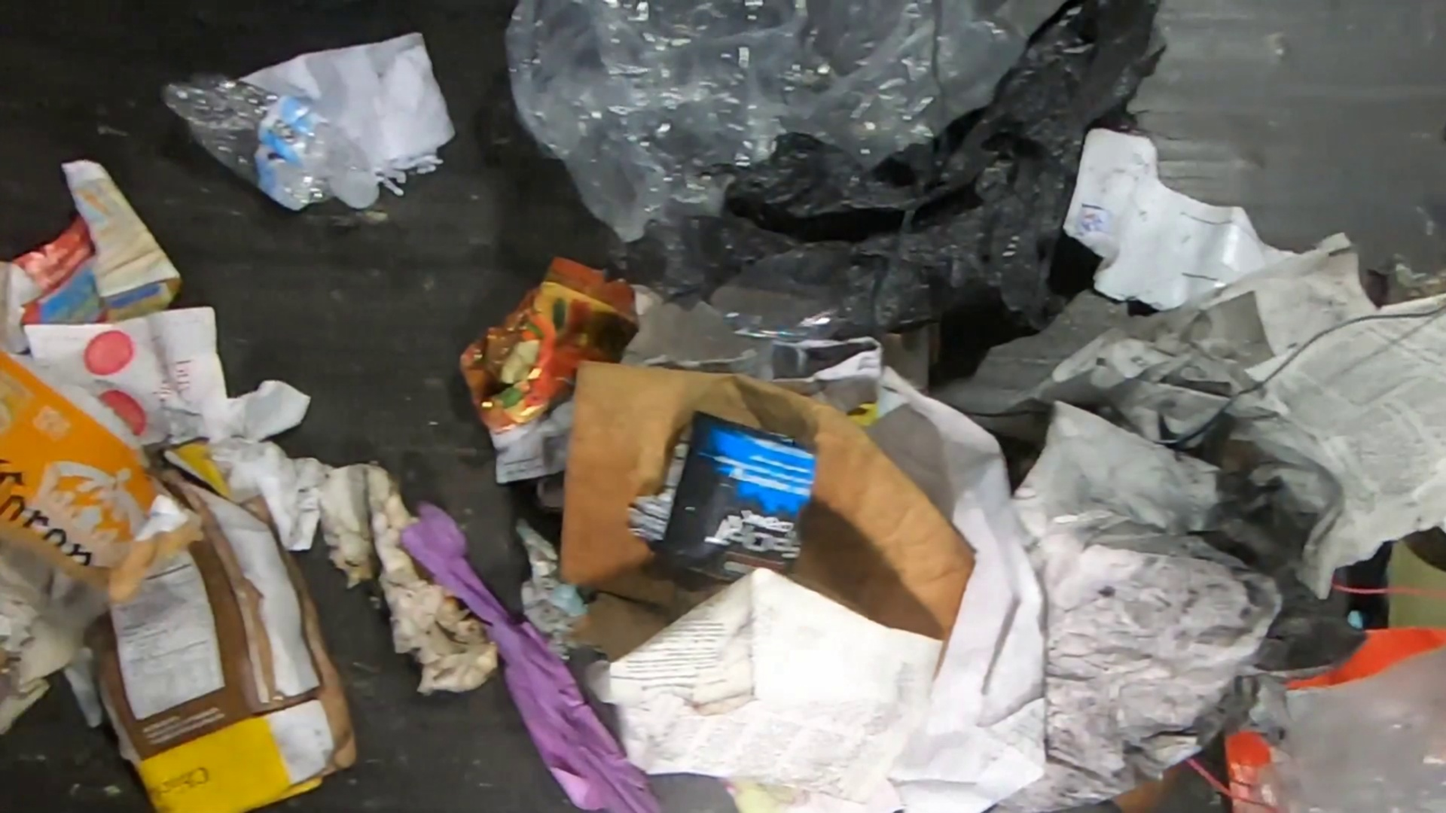cardboard: (555, 360, 975, 640), (91, 441, 360, 812), (0, 350, 206, 733), (1222, 728, 1273, 813)
plastic: (602, 2, 1169, 390), (503, 1, 1068, 249), (1252, 643, 1446, 813), (154, 69, 376, 212), (617, 244, 849, 374)
